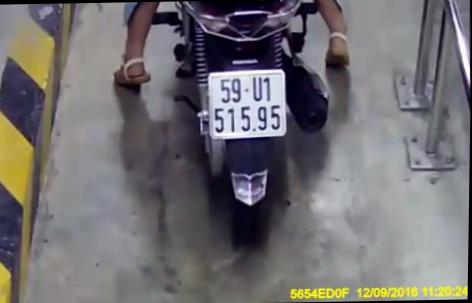LP: (207, 69, 288, 140)
